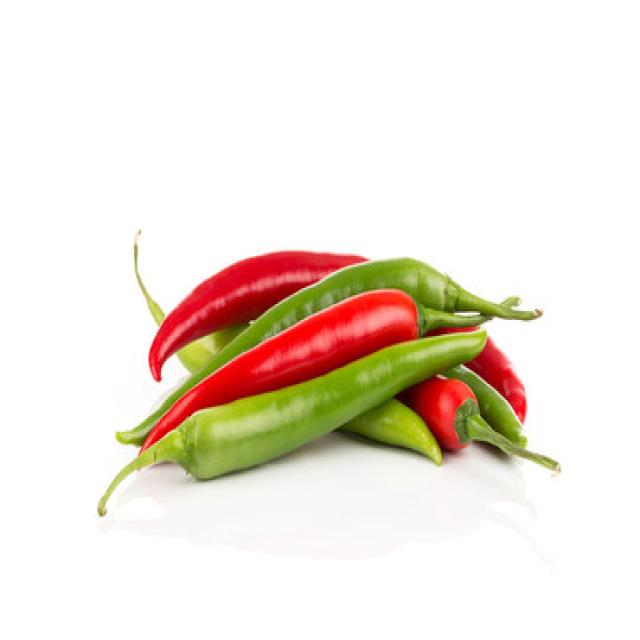Chilli: (117, 286, 491, 455), (172, 254, 540, 377), (135, 231, 371, 381), (398, 373, 561, 475), (335, 396, 442, 466)
